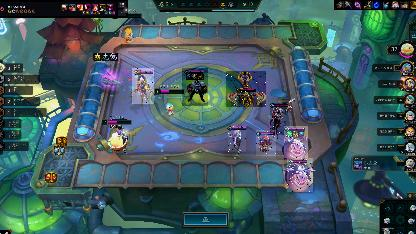2_heimerdinger: (256, 130, 276, 156)
2_lillia: (270, 103, 286, 135)
2_lux: (228, 126, 246, 152)
2_nomsy: (287, 158, 313, 192), (284, 126, 308, 158)
2_sylas: (182, 68, 208, 106)
3_skarner: (226, 71, 266, 107)
3_vladimir: (132, 68, 154, 104)
